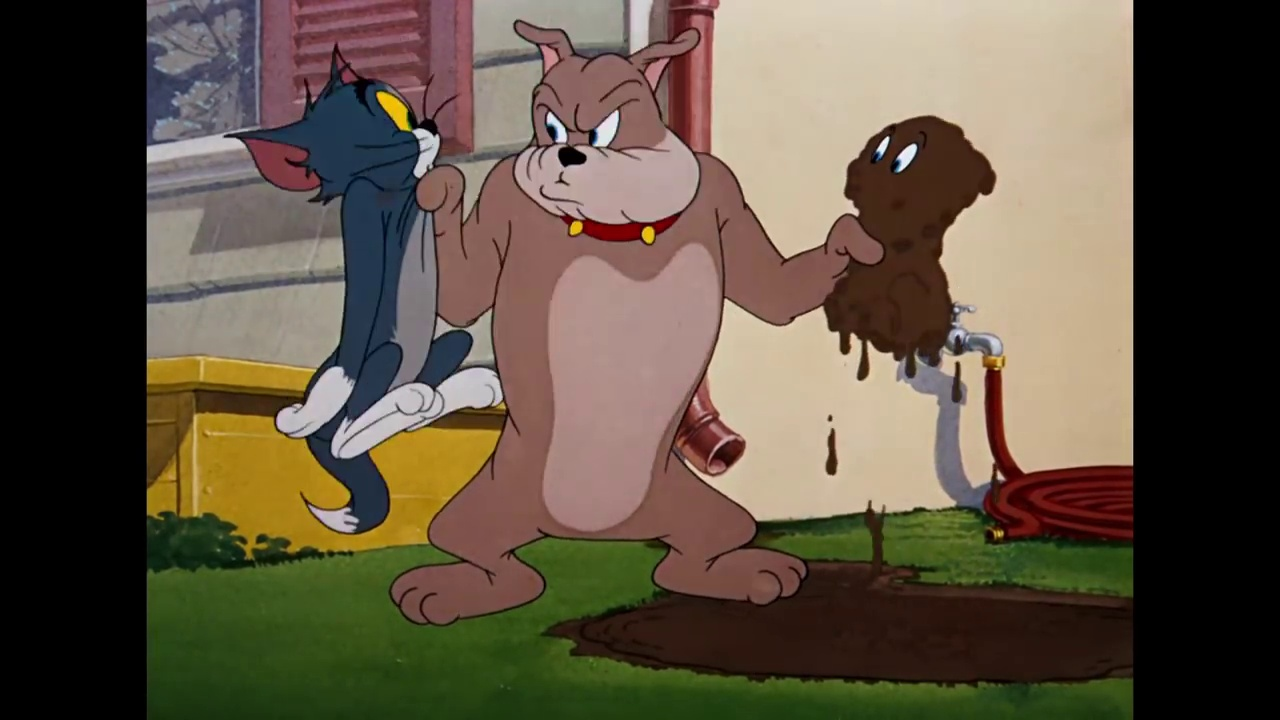spike: (509, 16, 705, 247)
tom: (225, 38, 462, 212)
